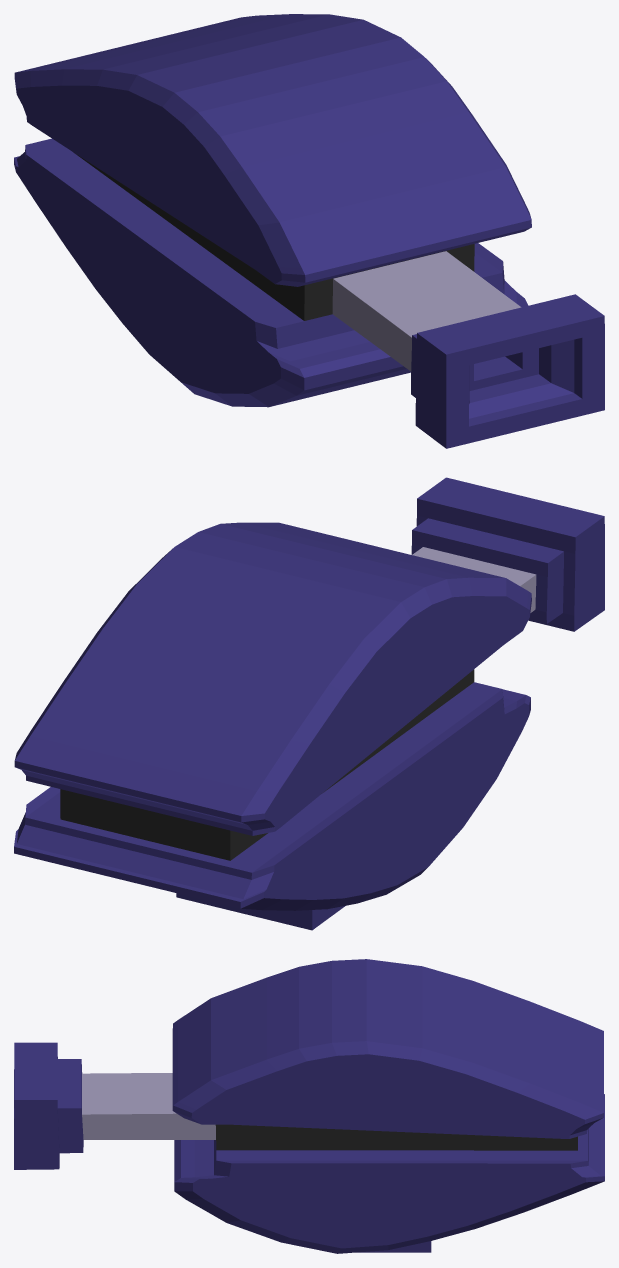
File: guntop.fbx
The picture shows the model from 3 angles, top to bottom: view 1: azimuth 30°, elevation 25°; view 2: azimuth 150°, elevation 25°; view 3: azimuth 270°, elevation 25°; orthographic projection. The views are drawn at different scales.
Parts seen in each view (by area): view 1: Gun_Turret_Top; view 2: Gun_Turret_Top; view 3: Gun_Turret_Top.
Part boxes in pixels (box(x1,y1,x2,y2)): Gun_Turret_Top: box(14, 14, 604, 448); Gun_Turret_Top: box(14, 477, 604, 930); Gun_Turret_Top: box(14, 959, 604, 1253).
Size of the model in its own units: 92.79 by 110 by 258.
